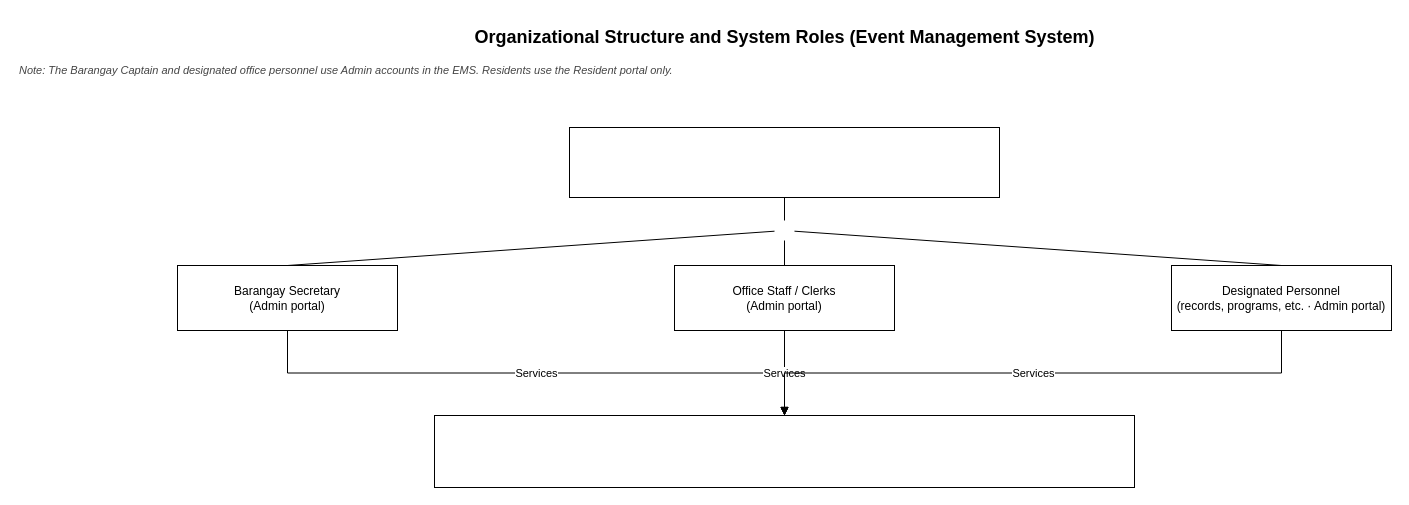
The diagram is 1409 pixels wide and 505 high, and some of its shapes have lost their labels. Each missing label, with the centre of its shape:
"Barangay Captain (Head of office · May create Admin accounts)" goes at (784,162).
"Residents (Barangay constituents · Resident portal)" goes at (784,451).
